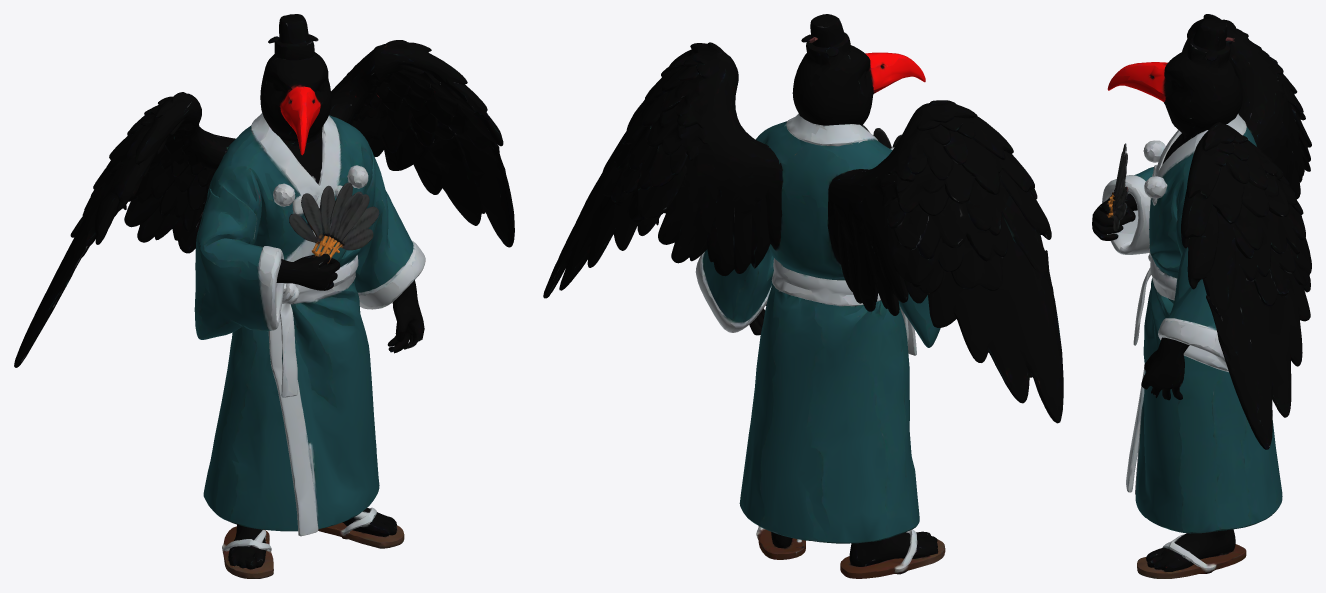
Rendered from detail_7.glb.
3 views of the same model, side by side, from view 1: azimuth 30°, elevation 25°; view 2: azimuth 150°, elevation 25°; view 3: azimuth 270°, elevation 25° (orthographic). The views are drawn at different scales.
Parts seen in each view (by area): view 1: 0; view 2: 0; view 3: 0.
Part boxes in pixels (bbox=[...]): 0: bbox=[14, 14, 514, 578]; 0: bbox=[543, 14, 1063, 578]; 0: bbox=[1092, 14, 1311, 578].
Bounding box in the file's own units: 1 × 0.9976 × 0.3835.
1 material, 1 textured.
